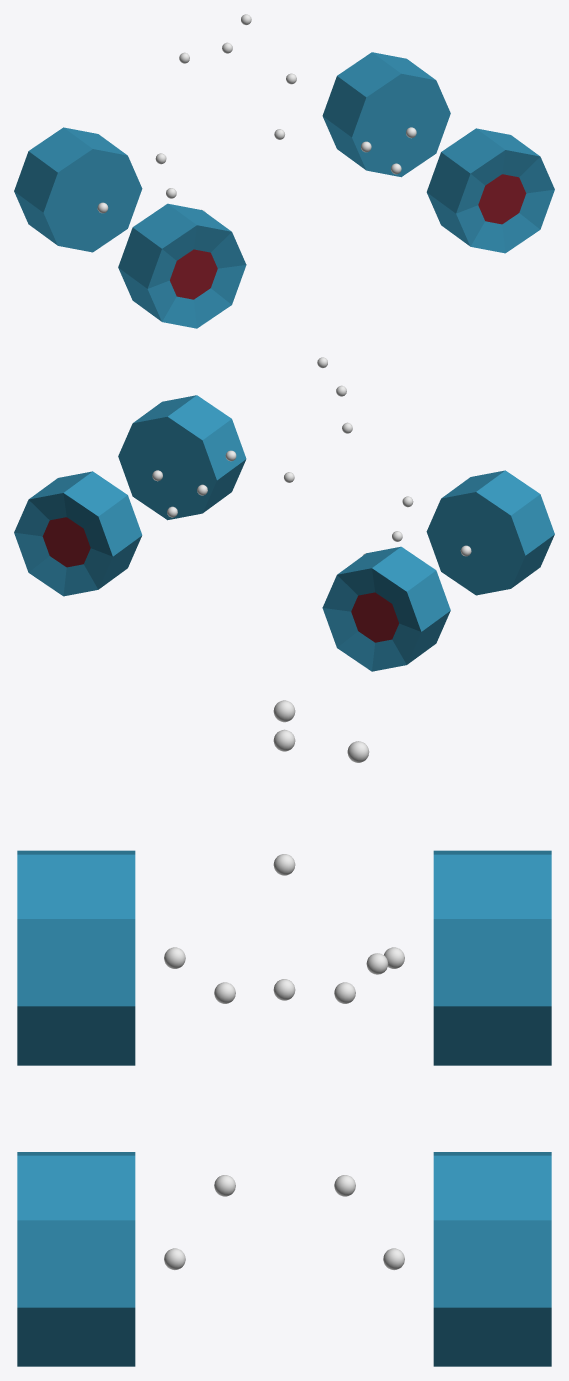
File: ~blur.fbx
3 views of the same model, one above another, from view 1: azimuth 30°, elevation 25°; view 2: azimuth 150°, elevation 25°; view 3: azimuth 270°, elevation 25° (orthographic). The views are drawn at different scales.
Visible parts, largest first — view 1: @right back tire, @right front tire, @left back tire, @left front tire; view 2: @left back tire, @left front tire, @right back tire, @right front tire; view 3: @left back tire, @right back tire, @left front tire, @right front tire.
Boxes of the visible parts, <box> form: @right back tire: <box>118,203,246,328</box>; @right front tire: <box>426,128,554,253</box>; @left back tire: <box>14,127,142,252</box>; @left front tire: <box>322,52,450,177</box>; @left back tire: <box>322,546,450,671</box>; @left front tire: <box>14,471,142,596</box>; @right back tire: <box>426,470,554,595</box>; @right front tire: <box>118,395,246,520</box>; @left back tire: <box>433,850,551,1065</box>; @right back tire: <box>17,850,135,1065</box>; @left front tire: <box>433,1152,551,1366</box>; @right front tire: <box>17,1152,135,1366</box>.
Bounding box in the file's own units: 172 × 95.35 × 97.5.
